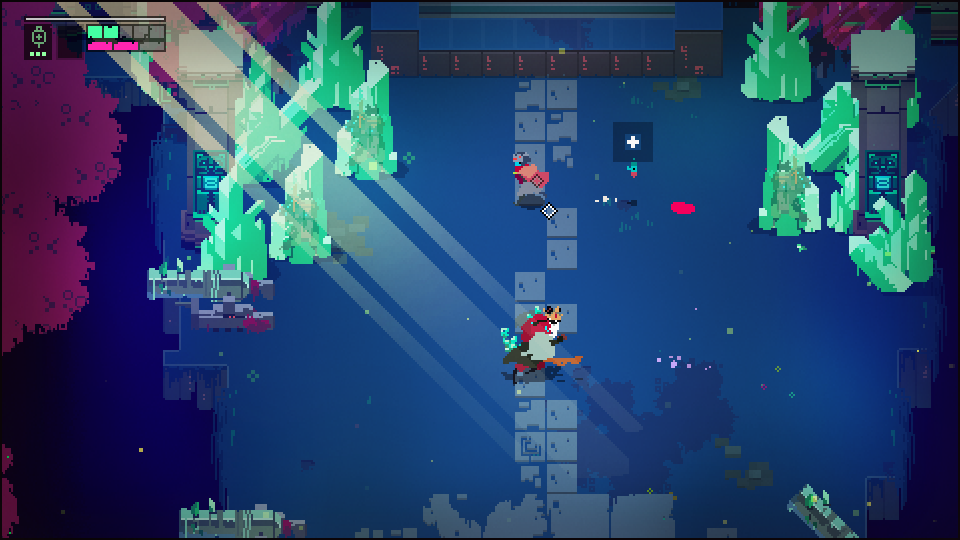hanged_man: (497, 298, 588, 389)
player: (506, 149, 550, 207)
